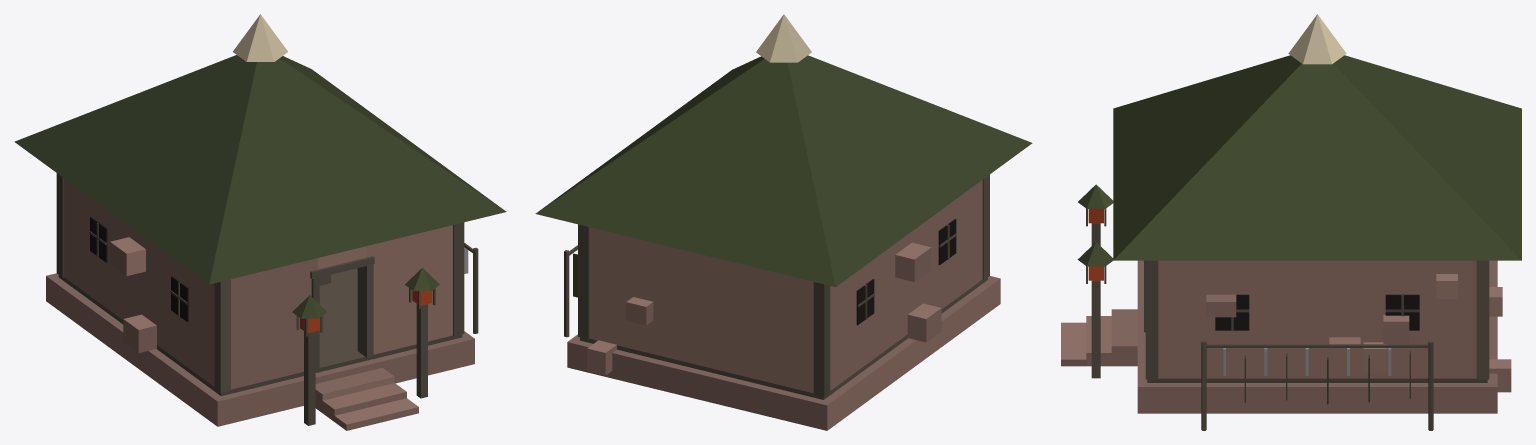
The model's file is walk_reef_house.glb.
The picture shows the model from 3 angles, left to right: view 1: azimuth 30°, elevation 25°; view 2: azimuth 150°, elevation 25°; view 3: azimuth 270°, elevation 25°; orthographic projection. The views are drawn at different scales.
Visible parts, largest first — view 1: walk_reef_house_roof, walk_reef_house; view 2: walk_reef_house_roof, walk_reef_house; view 3: walk_reef_house_roof, walk_reef_house.
Part boxes in pixels (bbox=[...]): walk_reef_house_roof: bbox=[14, 14, 506, 284]; walk_reef_house: bbox=[46, 173, 478, 430]; walk_reef_house_roof: bbox=[535, 14, 1032, 287]; walk_reef_house: bbox=[564, 174, 1000, 430]; walk_reef_house_roof: bbox=[1113, 14, 1521, 260]; walk_reef_house: bbox=[1061, 184, 1511, 430].
Size of what is drawn, in the model's own units: 7.78 by 7.57 by 9.47.
2 materials, 2 textured.
